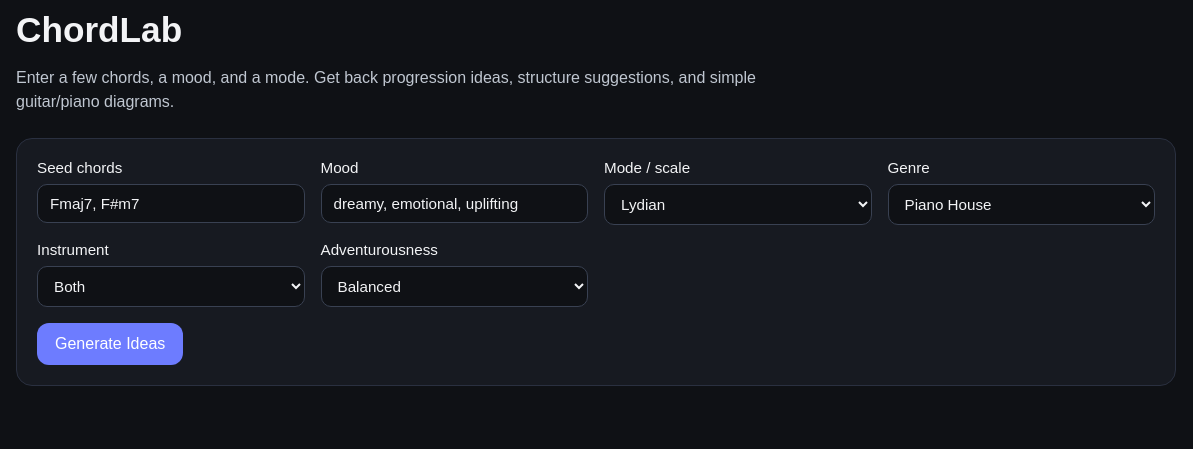
Scenario: HomePage › shows an error when custom genre is selected without input
Select "Custom" in the dropdown labelled "Genre" at [1021, 204], box left=888, top=184, right=1155, bottom=225
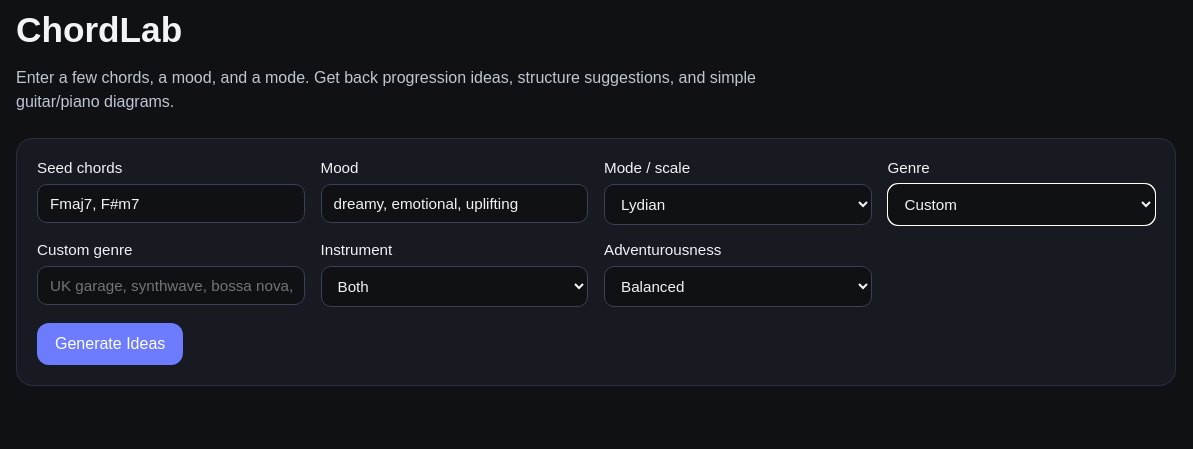
Click the button "Generate Ideas" at [110, 344], box left=37, top=323, right=183, bottom=365
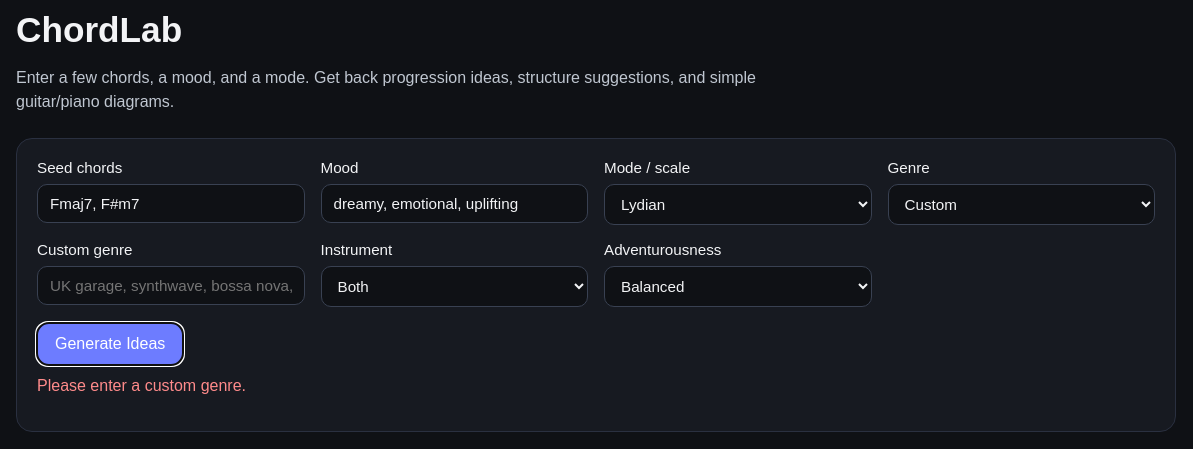
Expected: the text "Please enter a custom genre." is shown, left=37, top=377, right=246, bottom=394
